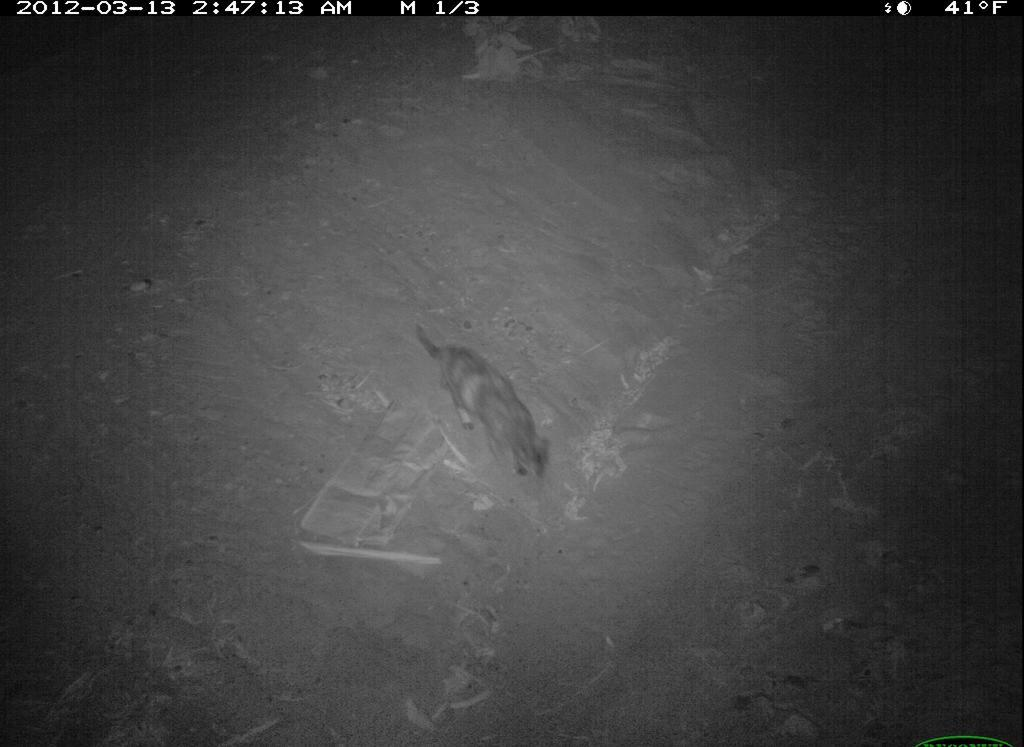cat: (411, 321, 568, 498)
